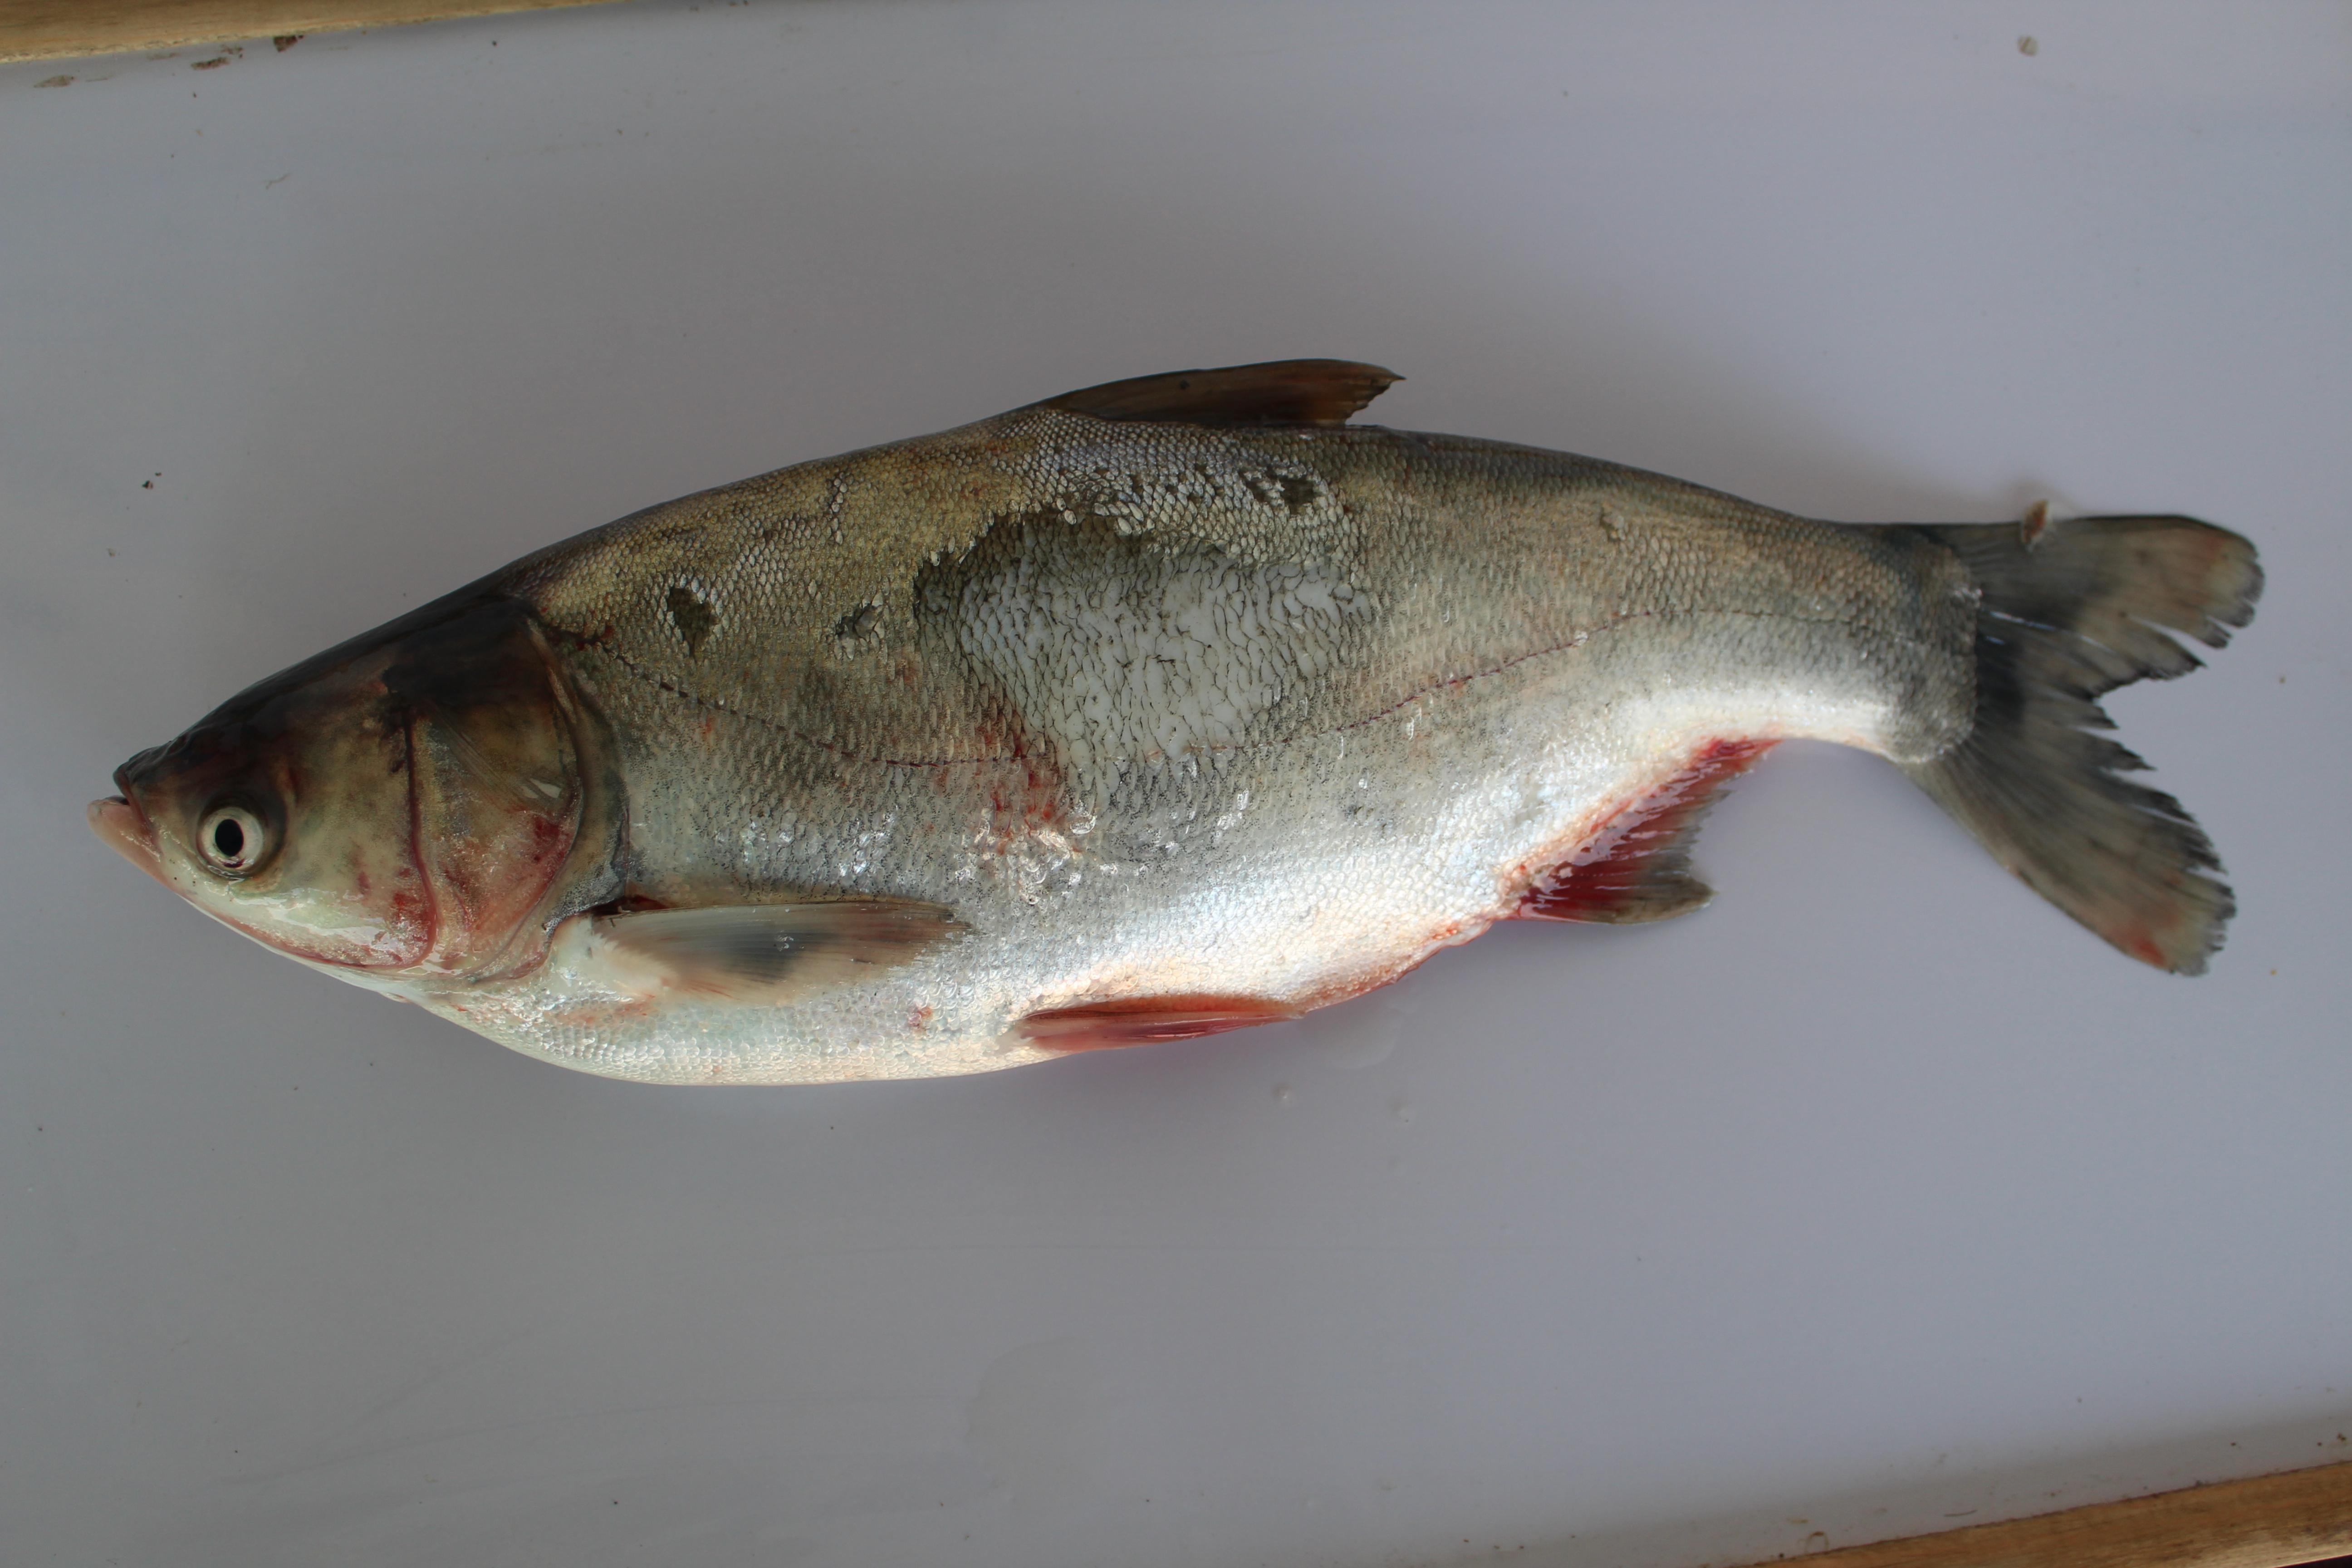Silver Carp: (107, 350, 2270, 1080)
